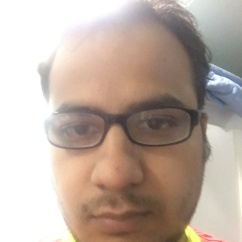glasses: (41, 106, 197, 146)
